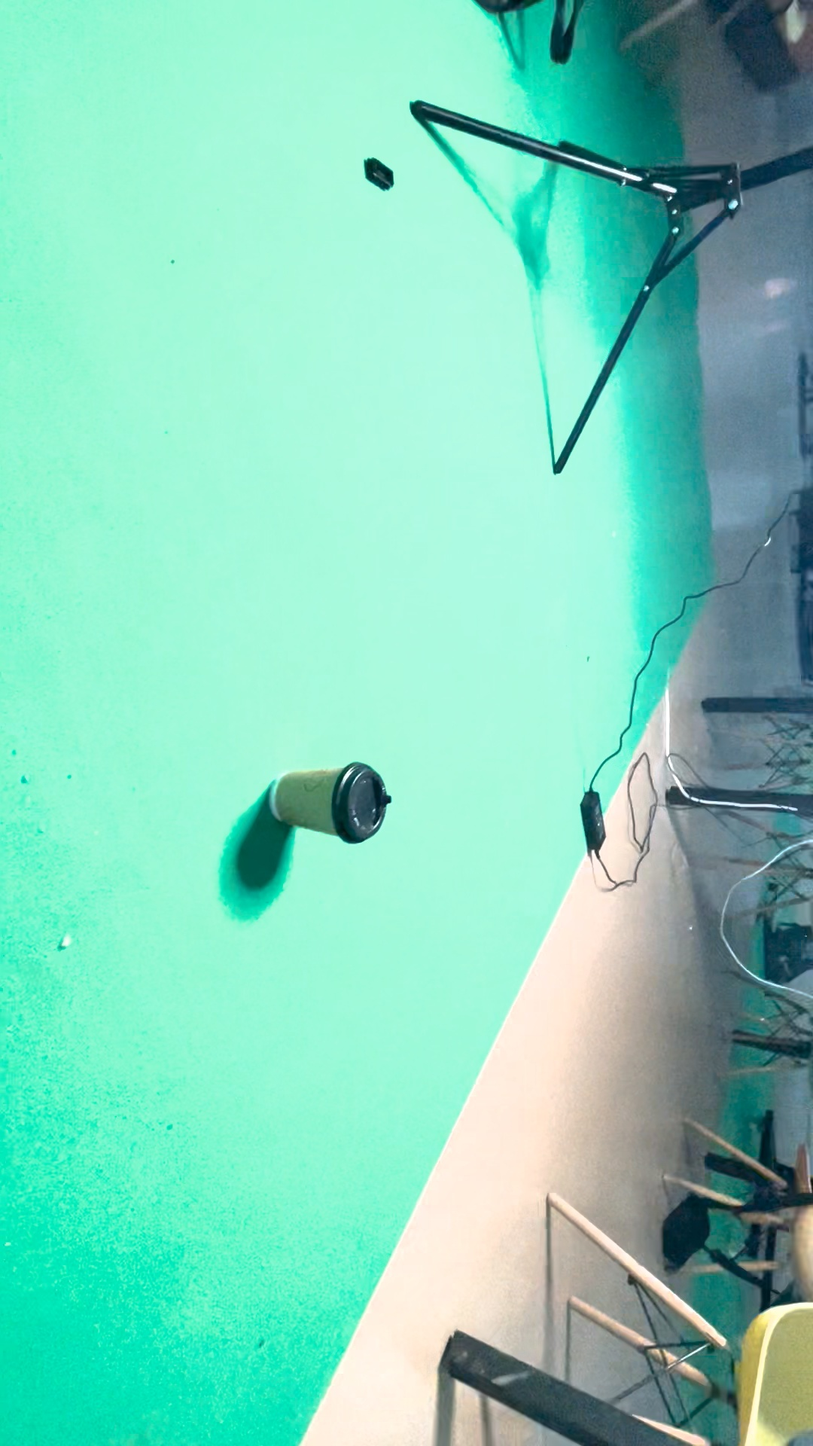cup: (446, 690, 527, 1093)
